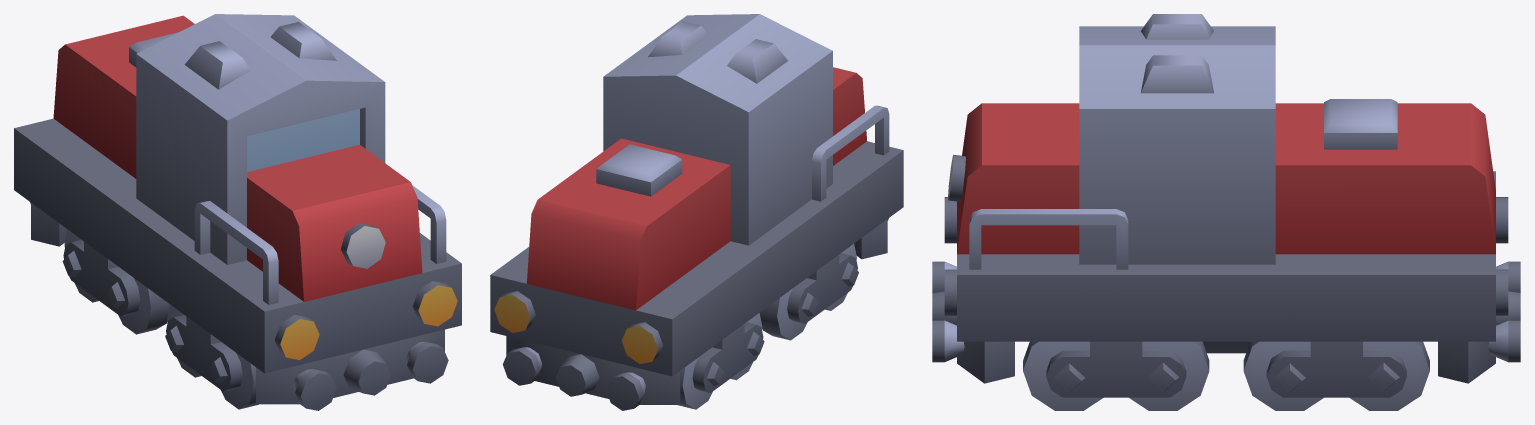
File: train-diesel-b.glb
3 views of the same model, side by side, from view 1: azimuth 30°, elevation 25°; view 2: azimuth 150°, elevation 25°; view 3: azimuth 270°, elevation 25° (orthographic). The views are drawn at different scales.
Visible parts, largest first — view 1: train-diesel-b, wheels-back, wheels-front; view 2: train-diesel-b, wheels-front, wheels-back; view 3: train-diesel-b, wheels-back, wheels-front.
Part boxes in pixels (x1,y1,x2,y2): train-diesel-b: (14,14,461,410); wheels-back: (62,230,169,334); wheels-front: (165,304,258,409); train-diesel-b: (490,14,903,410); wheels-front: (759,244,858,340); wheels-back: (678,313,764,409); train-diesel-b: (932,14,1520,383); wheels-back: (1243,341,1429,410); wheels-front: (1023,341,1209,410).
Size of the model in its own units: 1 by 1.48 by 2.4.
